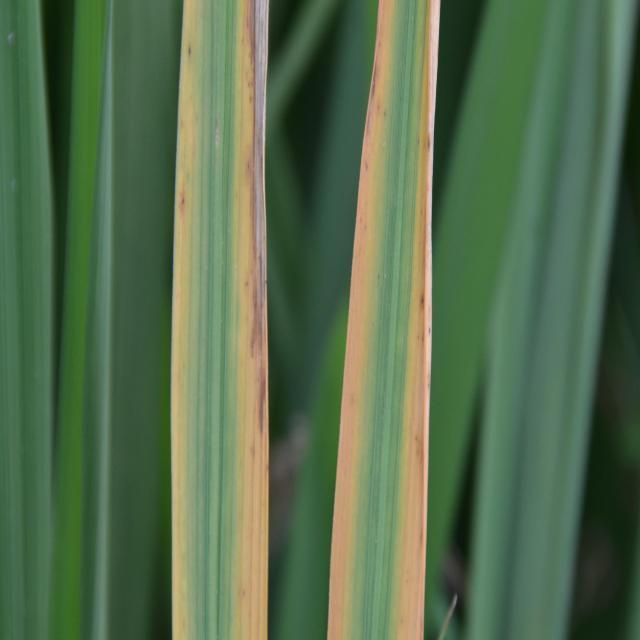Rice Tungro: (129, 11, 469, 626)
